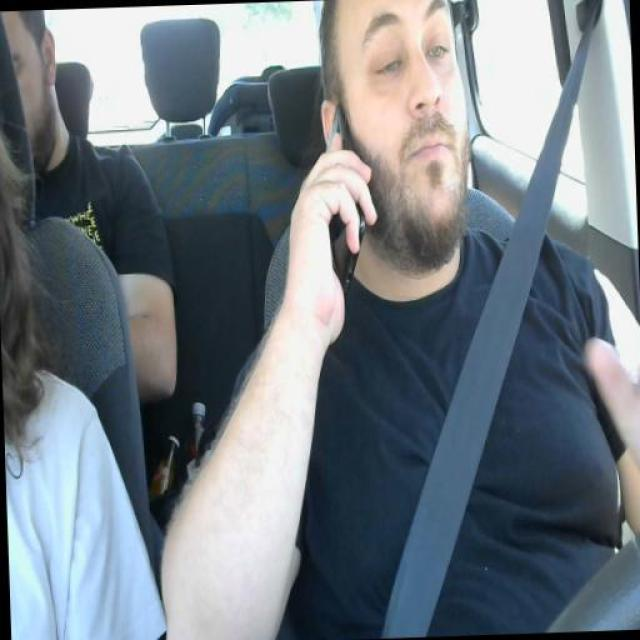phone: (322, 107, 366, 285)
